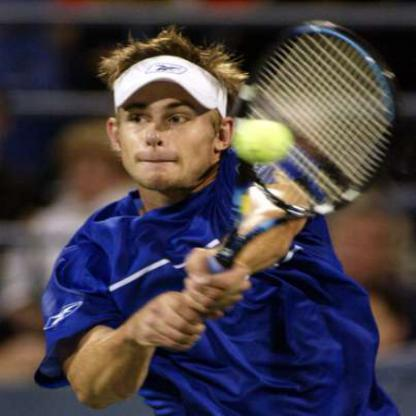face: (113, 44, 221, 194)
